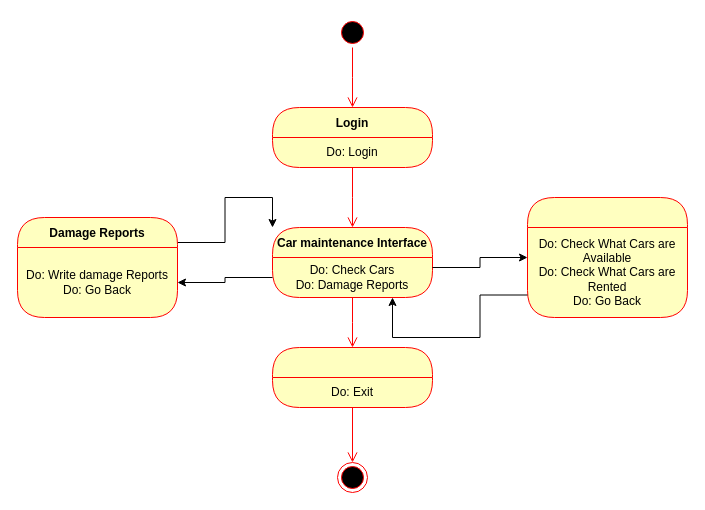
Some shapes in this 705 by 510 pixel diagram are drawn without their labels. The shapes that lost their labels are listed below. From the top down, each one's box as (x1, y1, x2, y2) in pixels, then its label:
(526, 196, 688, 318): Check Cars
(272, 346, 432, 408): Logout
